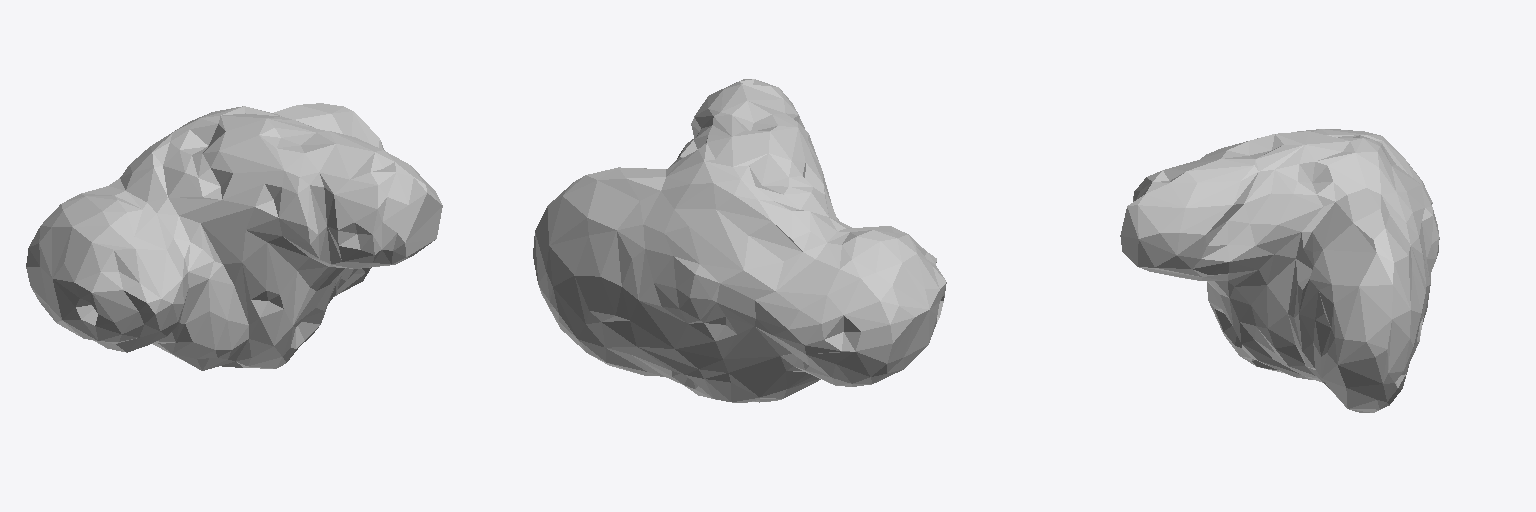
Rendered from Rock_Tall.obj.
3 renders of one model, left to right at view 1: azimuth 30°, elevation 25°; view 2: azimuth 150°, elevation 25°; view 3: azimuth 270°, elevation 25°, orthographic.
Visible parts, largest first — view 1: TallRock:Group63309; view 2: TallRock:Group63309; view 3: TallRock:Group63309.
Part boxes in pixels (bbox=[...]): TallRock:Group63309: bbox=[26, 103, 442, 370]; TallRock:Group63309: bbox=[533, 79, 946, 402]; TallRock:Group63309: bbox=[1120, 129, 1439, 412].
Bounding box in the file's own units: 151 × 96.97 × 114.